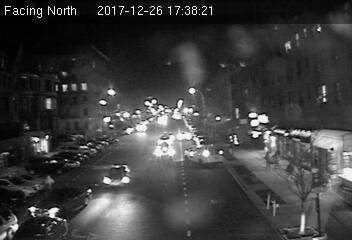car: (27, 184, 93, 218), (104, 162, 132, 190), (153, 145, 177, 161)
truck: (184, 143, 223, 166)
